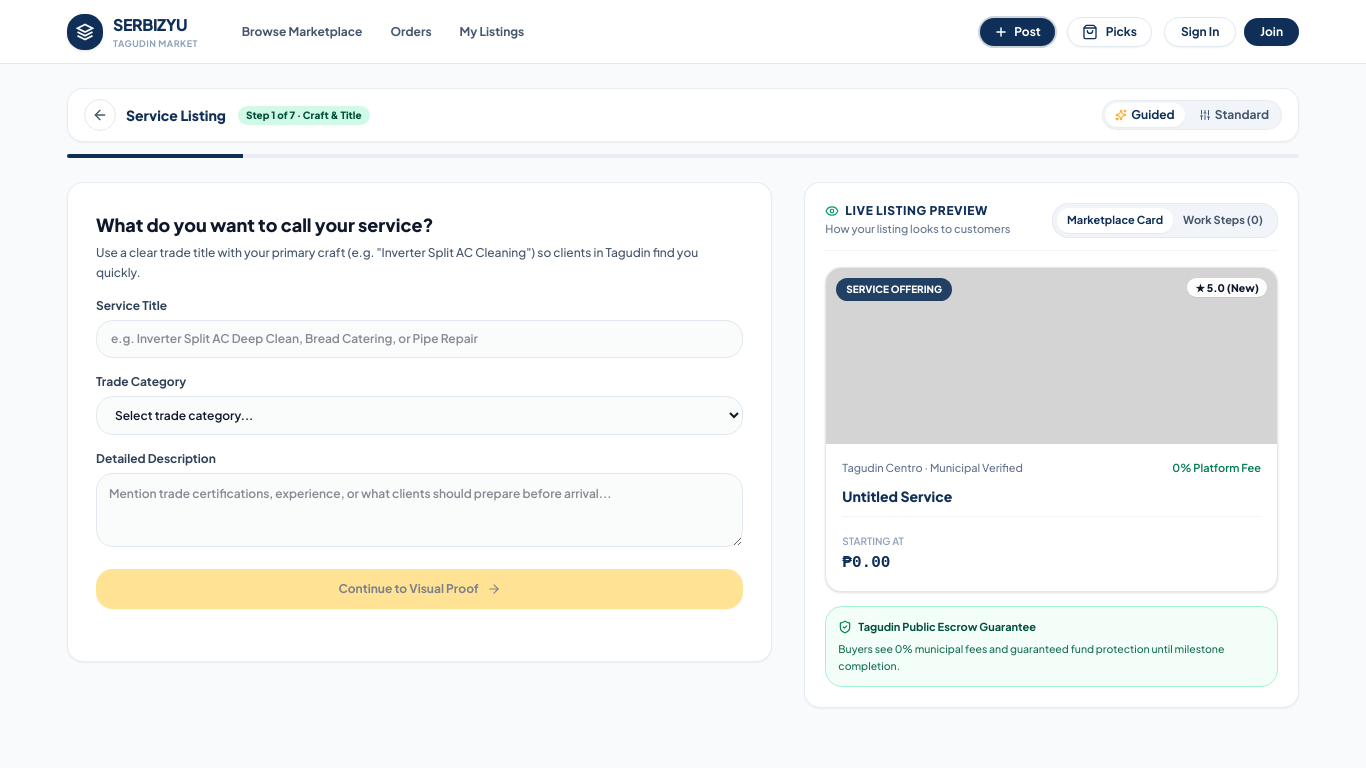
Scenario: CreateService Component — Granular Guided & Standard Modes › switches to Standard mode with high-density plain labels and all-in-one form
# Switch to standard mode
Click the button "Standard" at {"x": 1234, "y": 115}, box [1189, 103, 1279, 127]
(page scrolled)
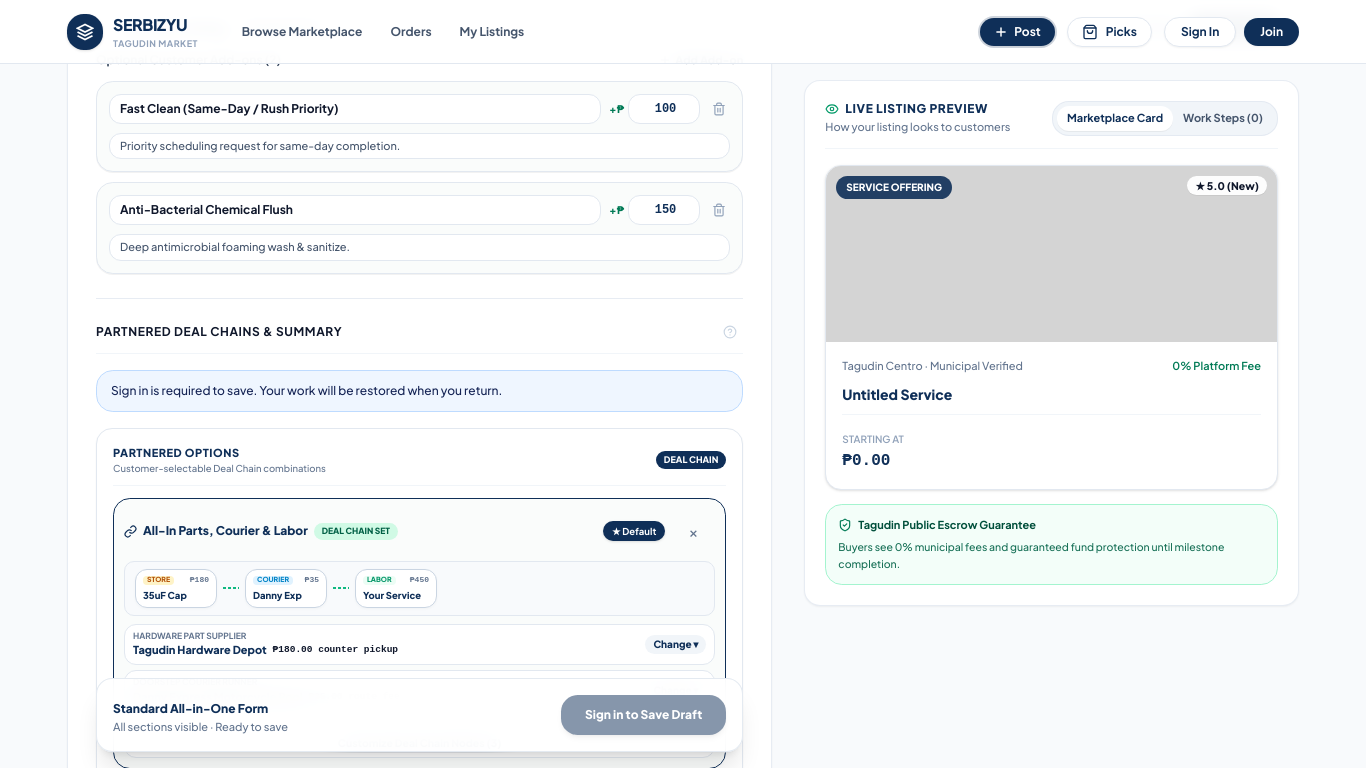
Expected: the text "Standard Form" is shown, [238, 18, 326, 36]
Expected: the text "Standard All-in-One Form" is shown, [113, 700, 268, 716]
